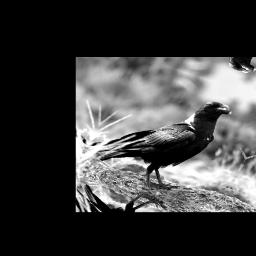Crow: (87, 75, 239, 201)
